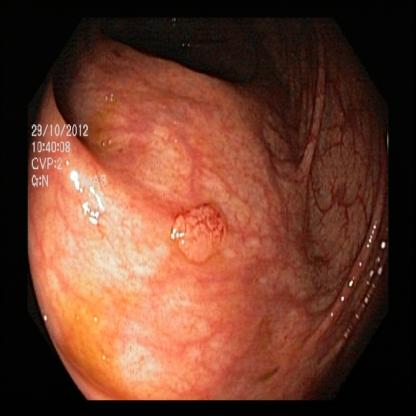Labels: (27, 113, 91, 188)
Polyps: (158, 190, 239, 267)
